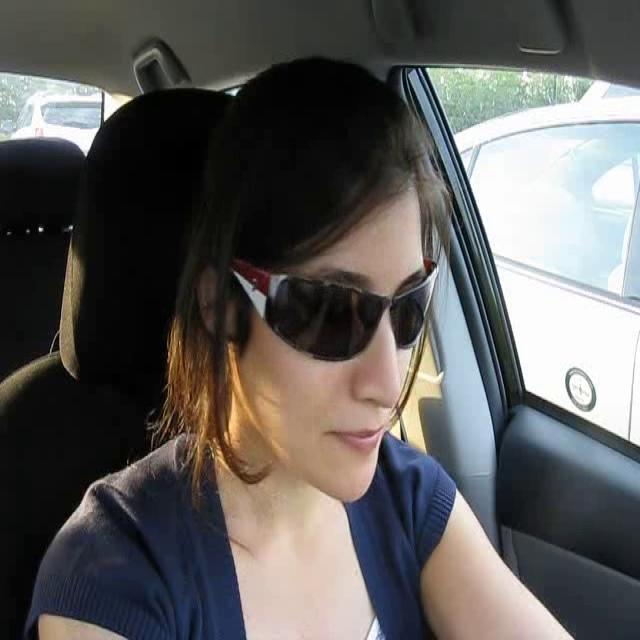close: (326, 419, 384, 457)
